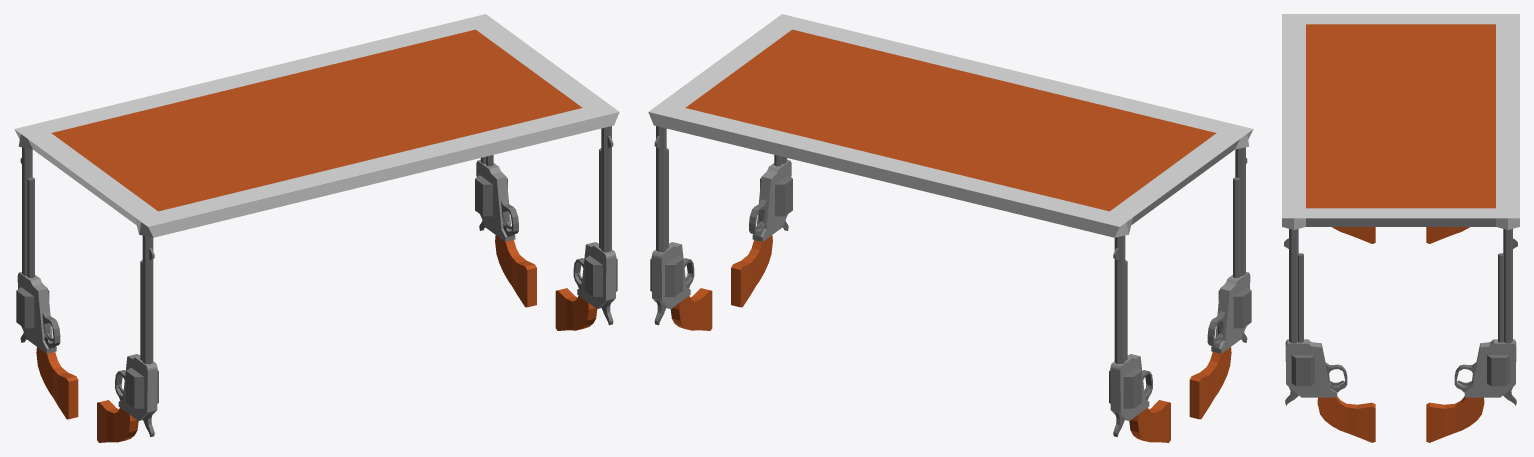
Rendered from GunTable.fbx.
3 renders of one model, left to right at view 1: azimuth 30°, elevation 25°; view 2: azimuth 150°, elevation 25°; view 3: azimuth 270°, elevation 25°, orthographic. The views are drawn at different scales.
Parts seen in each view (by area): view 1: TableGun; view 2: TableGun; view 3: TableGun.
Part boxes in pixels (<box>): TableGun: <box>14,14,619,442</box>; TableGun: <box>648,14,1253,442</box>; TableGun: <box>1282,14,1519,442</box>.
Bounding box in the file's own units: 209 × 105 × 100.
